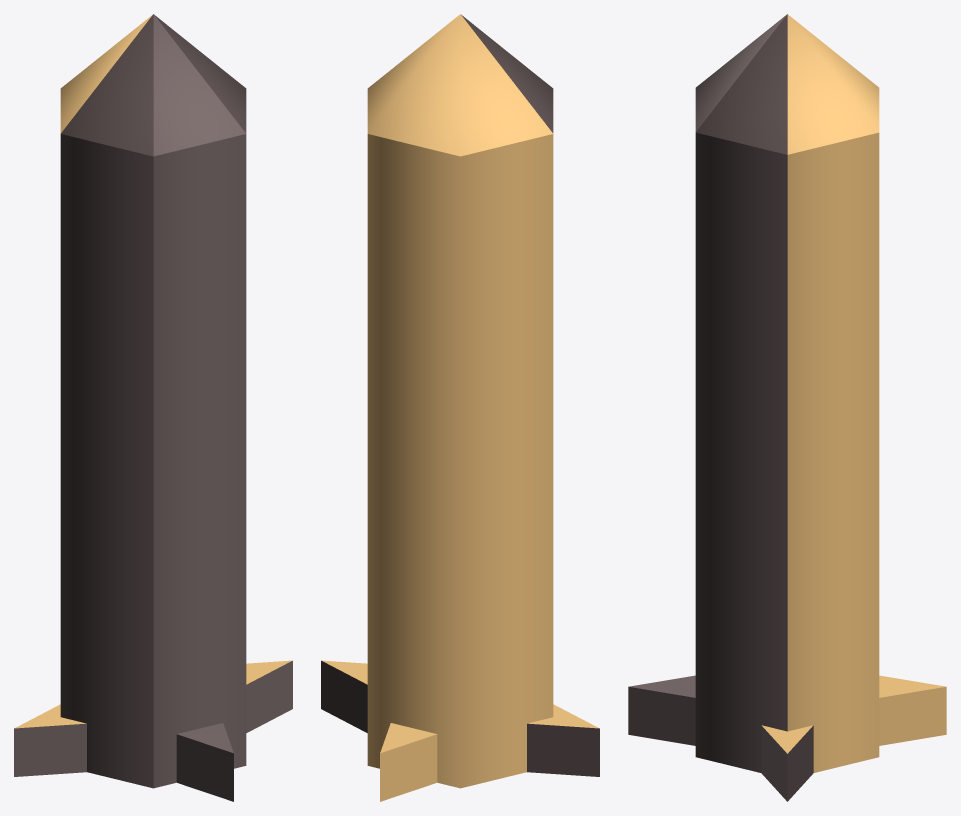
Rendered from Solo.MissileMesh.NoireEclipse.glb.
3 views of the same model, side by side, from view 1: azimuth 30°, elevation 25°; view 2: azimuth 150°, elevation 25°; view 3: azimuth 270°, elevation 25° (orthographic).
Parts seen in each view (by area): view 1: Solo.MissileMesh.NoireEclipse; view 2: Solo.MissileMesh.NoireEclipse; view 3: Solo.MissileMesh.NoireEclipse.
Part boxes in pixels (bbox=[...]): Solo.MissileMesh.NoireEclipse: bbox=[14, 14, 292, 801]; Solo.MissileMesh.NoireEclipse: bbox=[321, 14, 599, 801]; Solo.MissileMesh.NoireEclipse: bbox=[628, 14, 946, 801].
Size of the model in its own units: 0.6 by 1.5 by 0.6.
1 material, 1 textured.
